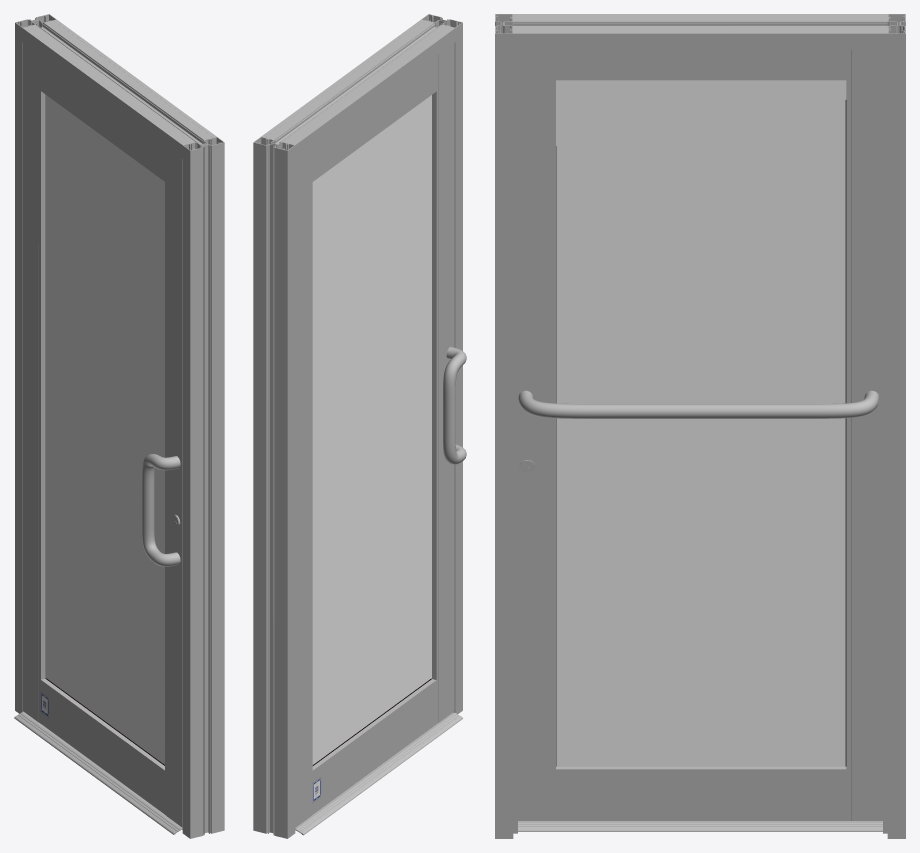
The model's file is Framed_D350_Single_Animated_AL.glb.
3 views of the same model, side by side, from view 1: azimuth 30°, elevation 25°; view 2: azimuth 150°, elevation 25°; view 3: azimuth 270°, elevation 25° (orthographic). The views are drawn at different scales.
Parts seen in each view (by area): view 1: Cube.010, PROFILE_curve_.018, D350, PROFILE_curve_.063, PROFILE_curve_.019, PROFILE_curve_.062, PROFILE_curve_.023, PROFILE_curve_.061, PROFILE_curve_.014, PROFILE_curve_.008, PROFILE_curve_.016, BézierCurve.001; view 2: Cube.010, PROFILE_curve_.022, PROFILE_curve_.063, D350, PROFILE_curve_.023, PROFILE_curve_.062, PROFILE_curve_.019, PROFILE_curve_.061, PROFILE_curve_.014, PROFILE_curve_.008, PROFILE_curve_.016, BézierCurve.001; view 3: Cube.010, PROFILE_curve_.063, D350, PROFILE_curve_.062, PROFILE_curve_.023, PROFILE_curve_.019, PROFILE_curve_.061, PROFILE_curve_.008, PROFILE_curve_.014, NurbsPath.001, PROFILE_curve_.016, 0_curve_.009 (+2 smaller).
Part boxes in pixels (x1=…): Cube.010: x1=45, y1=94, x2=164, y2=764; PROFILE_curve_.018: x1=193, y1=142, x2=221, y2=837; D350: x1=23, y1=42, x2=45, y2=723; PROFILE_curve_.063: x1=165, y1=146, x2=182, y2=827; PROFILE_curve_.019: x1=182, y1=137, x2=224, y2=838; PROFILE_curve_.062: x1=41, y1=678, x2=164, y2=814; PROFILE_curve_.023: x1=15, y1=14, x2=56, y2=713; PROFILE_curve_.061: x1=41, y1=56, x2=164, y2=181; PROFILE_curve_.014: x1=26, y1=20, x2=212, y2=144; PROFILE_curve_.008: x1=22, y1=19, x2=216, y2=158; PROFILE_curve_.016: x1=14, y1=712, x2=182, y2=834; BézierCurve.001: x1=141, y1=454, x2=180, y2=566; Cube.010: x1=312, y1=95, x2=431, y2=764; PROFILE_curve_.022: x1=256, y1=142, x2=284, y2=837; PROFILE_curve_.063: x1=432, y1=43, x2=454, y2=723; D350: x1=295, y1=147, x2=312, y2=827; PROFILE_curve_.023: x1=253, y1=137, x2=295, y2=838; PROFILE_curve_.062: x1=312, y1=679, x2=436, y2=814; PROFILE_curve_.019: x1=421, y1=14, x2=462, y2=714; PROFILE_curve_.061: x1=312, y1=56, x2=436, y2=181; PROFILE_curve_.014: x1=265, y1=20, x2=451, y2=144; PROFILE_curve_.008: x1=261, y1=19, x2=455, y2=158; PROFILE_curve_.016: x1=295, y1=712, x2=462, y2=835; BézierCurve.001: x1=443, y1=346, x2=466, y2=464; Cube.010: x1=556, y1=80, x2=846, y2=766; PROFILE_curve_.063: x1=518, y1=50, x2=555, y2=820; D350: x1=846, y1=50, x2=882, y2=820; PROFILE_curve_.062: x1=556, y1=766, x2=846, y2=820; PROFILE_curve_.023: x1=887, y1=14, x2=905, y2=838; PROFILE_curve_.019: x1=495, y1=14, x2=513, y2=838; PROFILE_curve_.061: x1=556, y1=50, x2=846, y2=80; PROFILE_curve_.008: x1=513, y1=14, x2=887, y2=49; PROFILE_curve_.014: x1=513, y1=16, x2=887, y2=31; NurbsPath.001: x1=518, y1=390, x2=879, y2=418; PROFILE_curve_.016: x1=518, y1=821, x2=882, y2=831; 0_curve_.009: x1=883, y1=50, x2=887, y2=833.
Size of the model in its own units: 0.2107 by 2.18 by 1.01.
6 materials, 1 textured.
